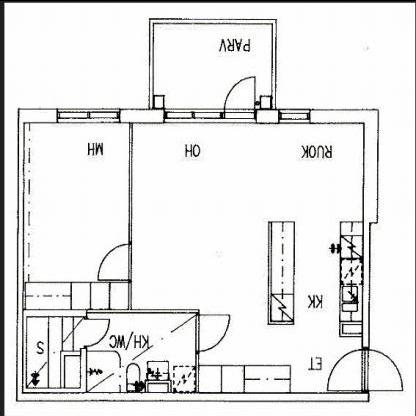door: (325, 346, 407, 393), (194, 308, 235, 356), (224, 74, 260, 122), (96, 239, 134, 282)
window: (160, 103, 226, 127), (53, 106, 123, 126), (278, 107, 313, 123)
